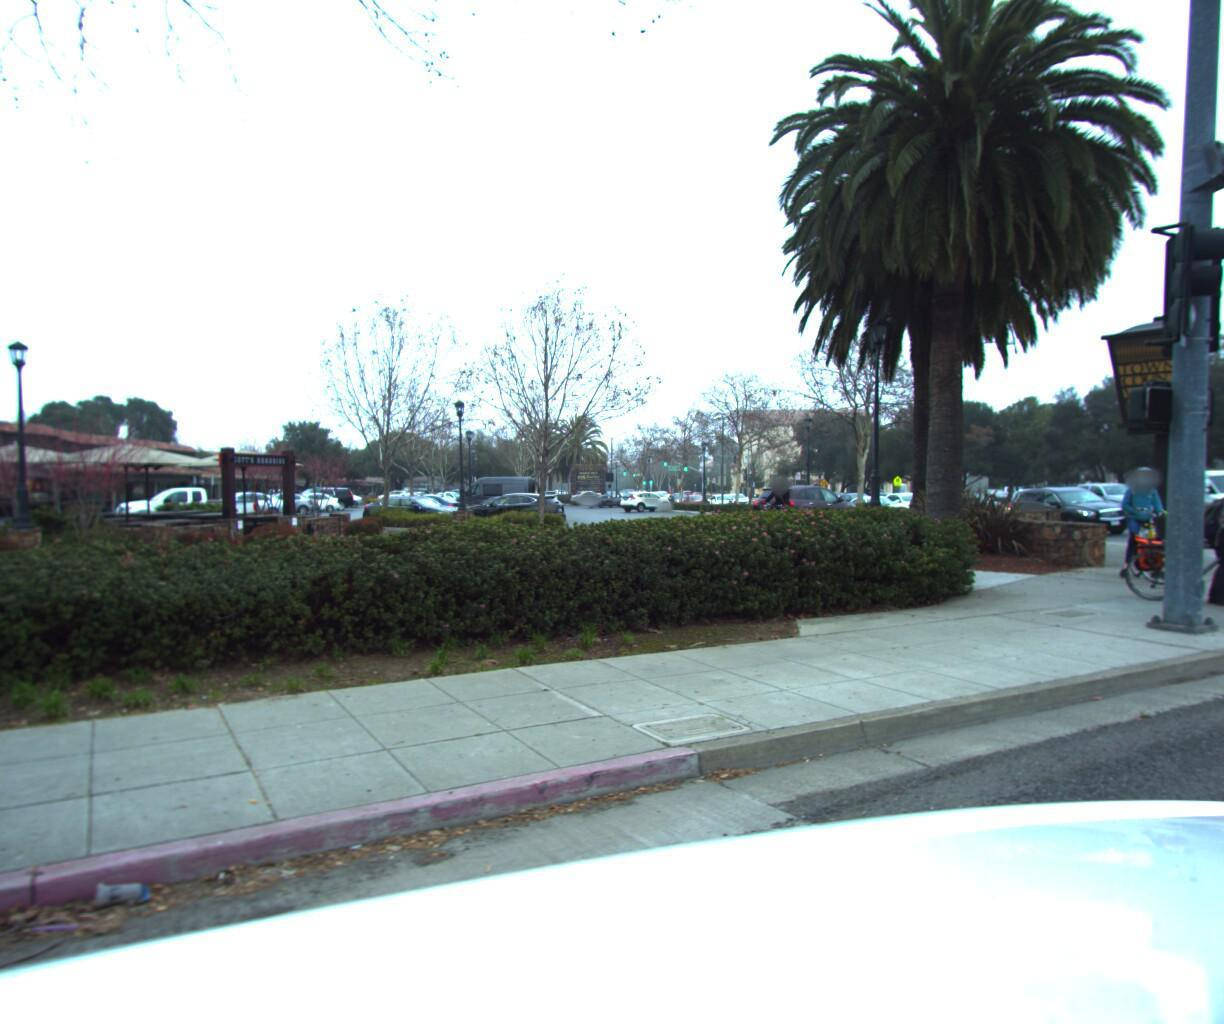bicycle: (1116, 475, 1224, 612), (1102, 451, 1198, 582), (752, 470, 804, 542)
car: (1003, 478, 1143, 537), (745, 478, 868, 532), (1045, 474, 1174, 519), (1179, 483, 1224, 551), (843, 488, 910, 523), (876, 485, 945, 516), (617, 485, 675, 510), (1199, 477, 1224, 526)
other_vehicle: (1130, 459, 1224, 534)
